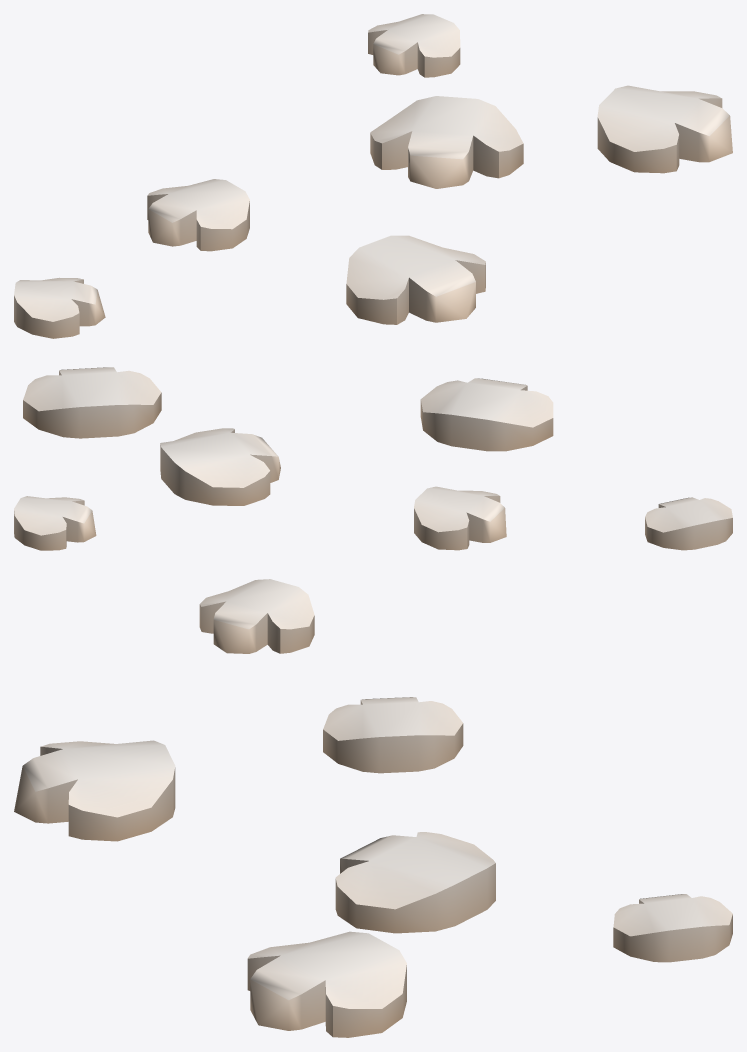
The model's file is food_ingredient_mushroom_pieces.obj.
The picture shows the model from 3 angles, top to bottom: view 1: azimuth 30°, elevation 25°; view 2: azimuth 150°, elevation 25°; view 3: azimuth 270°, elevation 25°; orthographic projection. The views are drawn at different scales.
Visible parts, largest first — view 1: food_ingredient_mushroom_pieces_Cylinder.337; view 2: food_ingredient_mushroom_pieces_Cylinder.337; view 3: food_ingredient_mushroom_pieces_Cylinder.337.
Part boxes in pixels (x1,y1,x2,y2): food_ingredient_mushroom_pieces_Cylinder.337: (14, 14, 732, 338); food_ingredient_mushroom_pieces_Cylinder.337: (14, 367, 732, 550); food_ingredient_mushroom_pieces_Cylinder.337: (14, 579, 732, 1037).
Bounding box in the file's own units: 1.29 × 0.0588 × 0.9209.
Materials: 1 (1 with a texture image).
